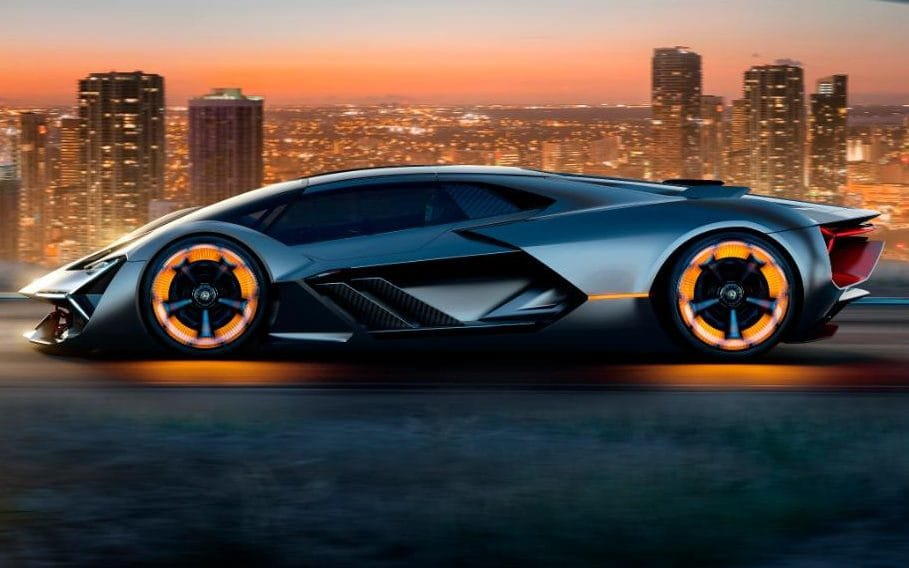car: (17, 151, 887, 384)
